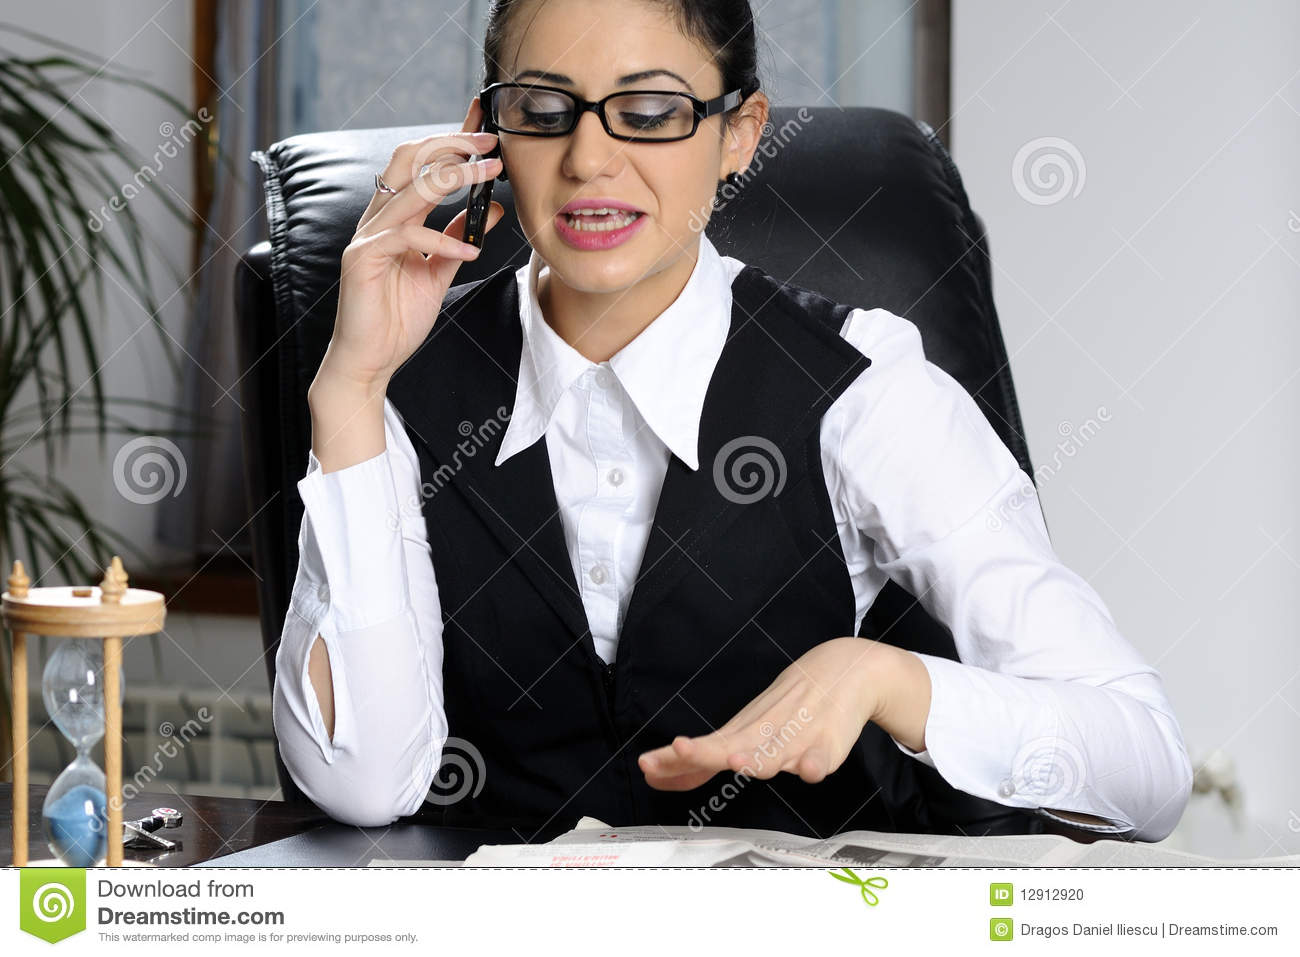phone: (466, 81, 503, 268)
talk: (321, 52, 705, 437)
